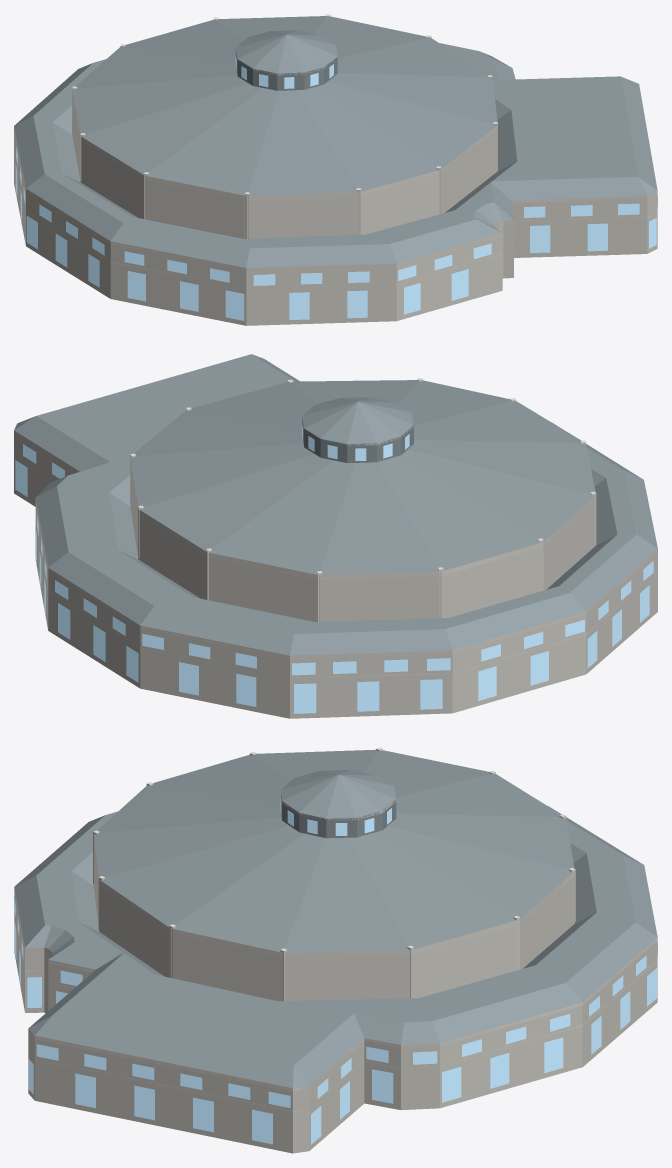
The model's file is detail.glb.
3 views of the same model, one above another, from view 1: azimuth 30°, elevation 25°; view 2: azimuth 150°, elevation 25°; view 3: azimuth 270°, elevation 25° (orthographic). The views are drawn at different scales.
Visible parts, largest first — view 1: roof, stone, window, trim; view 2: roof, stone, window, trim; view 3: roof, stone, window, trim.
Part boxes in pixels (x1,y1,x2,y2): roof: (14,16,657,267); stone: (14,95,657,325); window: (15,55,657,320); trim: (14,14,657,289); roof: (14,354,657,655); stone: (14,430,657,718); window: (15,425,653,713); trim: (14,378,657,678); roof: (14,749,657,1088); stone: (14,837,657,1153); window: (14,799,657,1144); trim: (14,747,657,1112).
Bounding box in the file's own units: 51.36 × 15 × 44.72.
